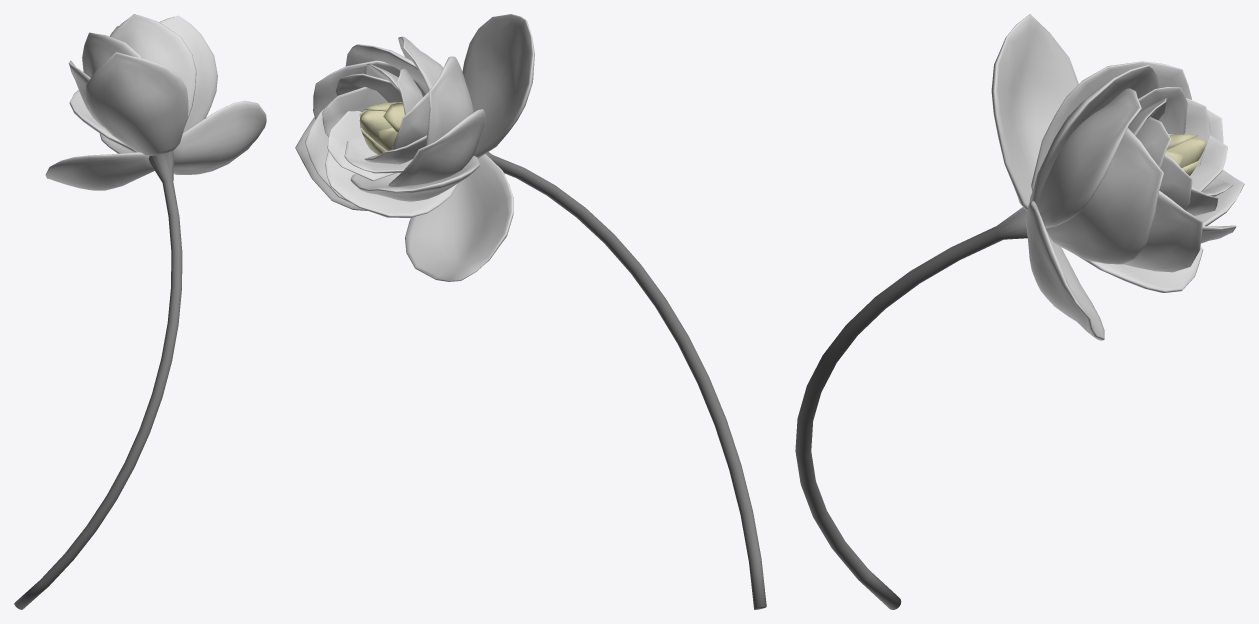
The model's file is Beli_Single_v3.fbx.
3 views of the same model, side by side, from view 1: azimuth 30°, elevation 25°; view 2: azimuth 150°, elevation 25°; view 3: azimuth 270°, elevation 25° (orthographic). The views are drawn at different scales.
Parts seen in each view (by area): view 1: Beli003, BeliStem003; view 2: Beli003, BeliStem003; view 3: Beli003, BeliStem003.
Boxes of the visible parts, x1=… form: Beli003: x1=45, y1=14, x2=266, y2=190; BeliStem003: x1=14, y1=151, x2=182, y2=609; Beli003: x1=295, y1=14, x2=534, y2=281; BeliStem003: x1=486, y1=152, x2=766, y2=609; Beli003: x1=991, y1=14, x2=1244, y2=340; BeliStem003: x1=795, y1=207, x2=1027, y2=609.
Size of the model in its own units: 6.35 by 9.26 by 5.42.
